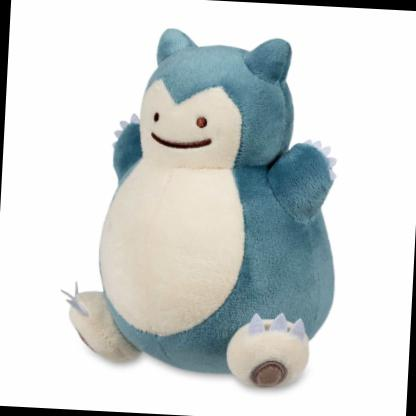Snorlax: (1, 1, 416, 397)
